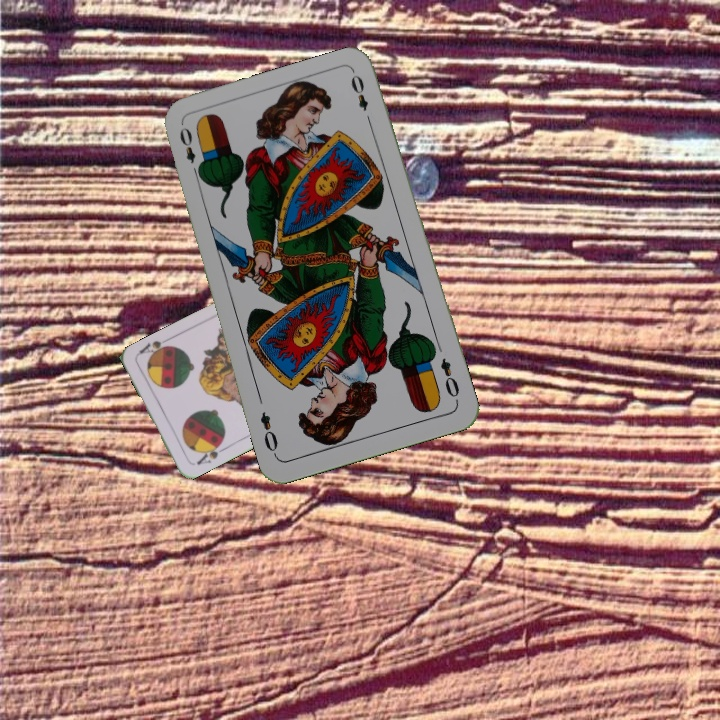EO: (175, 123, 204, 180), (436, 354, 462, 405)
SA: (192, 438, 228, 468)
